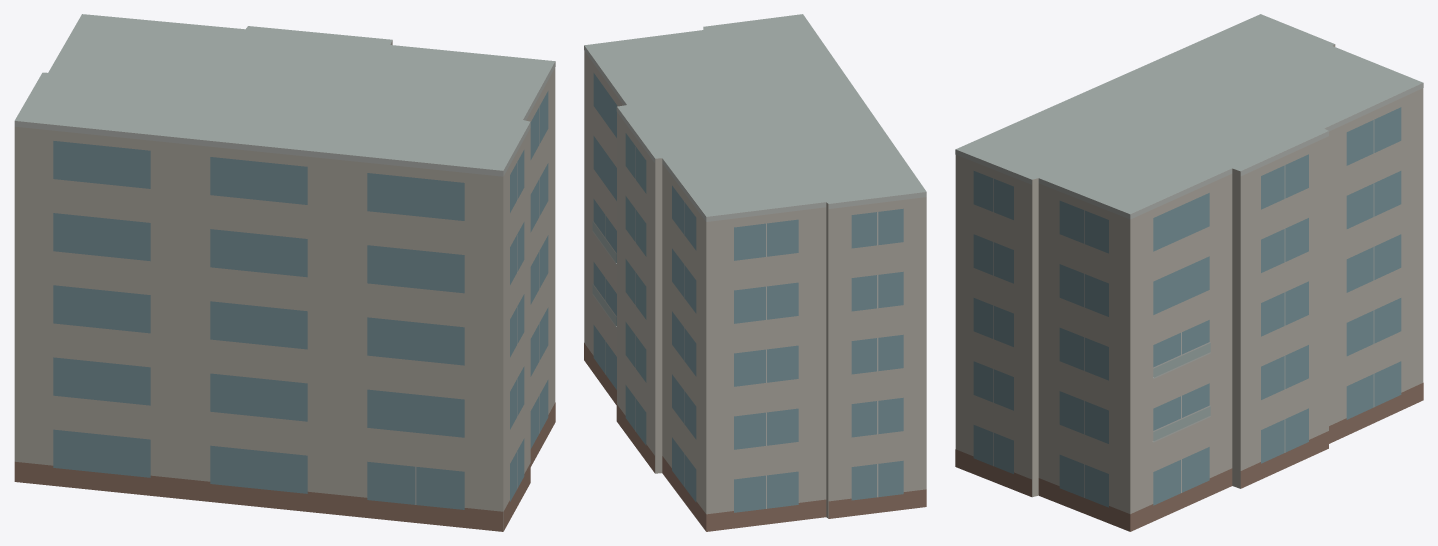
The model's file is survey-upis-32494857.glb.
The picture shows the model from 3 angles, left to right: view 1: azimuth 30°, elevation 25°; view 2: azimuth 150°, elevation 25°; view 3: azimuth 270°, elevation 25°; orthographic projection. The views are drawn at different scales.
Visible parts, largest first — view 1: survey-upis-32494857.tmp; view 2: survey-upis-32494857.tmp; view 3: survey-upis-32494857.tmp.
Boxes of the visible parts, x1,y1,x2,y2 form: survey-upis-32494857.tmp: (14, 14, 555, 531); survey-upis-32494857.tmp: (584, 14, 926, 531); survey-upis-32494857.tmp: (955, 14, 1423, 531).
Size of the model in its own units: 20.37 by 15.05 by 20.11.
